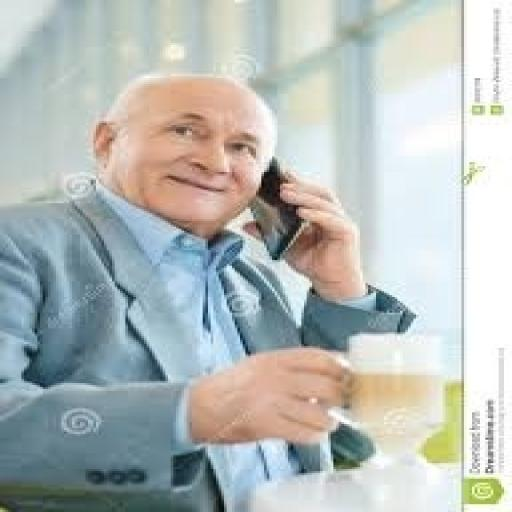calling: (0, 68, 416, 510)
